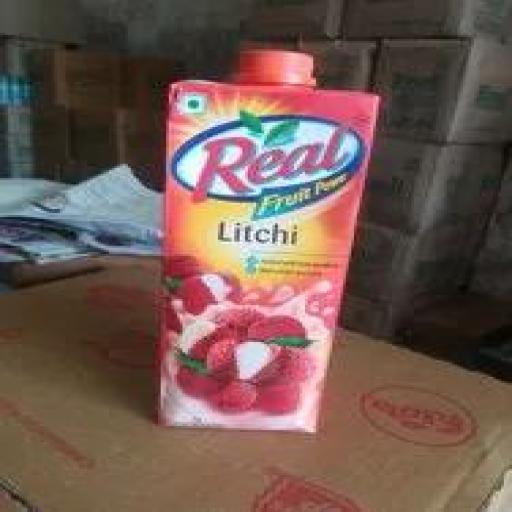drink carton: (158, 78, 387, 435)
plastic bottle cap: (232, 51, 315, 89)
